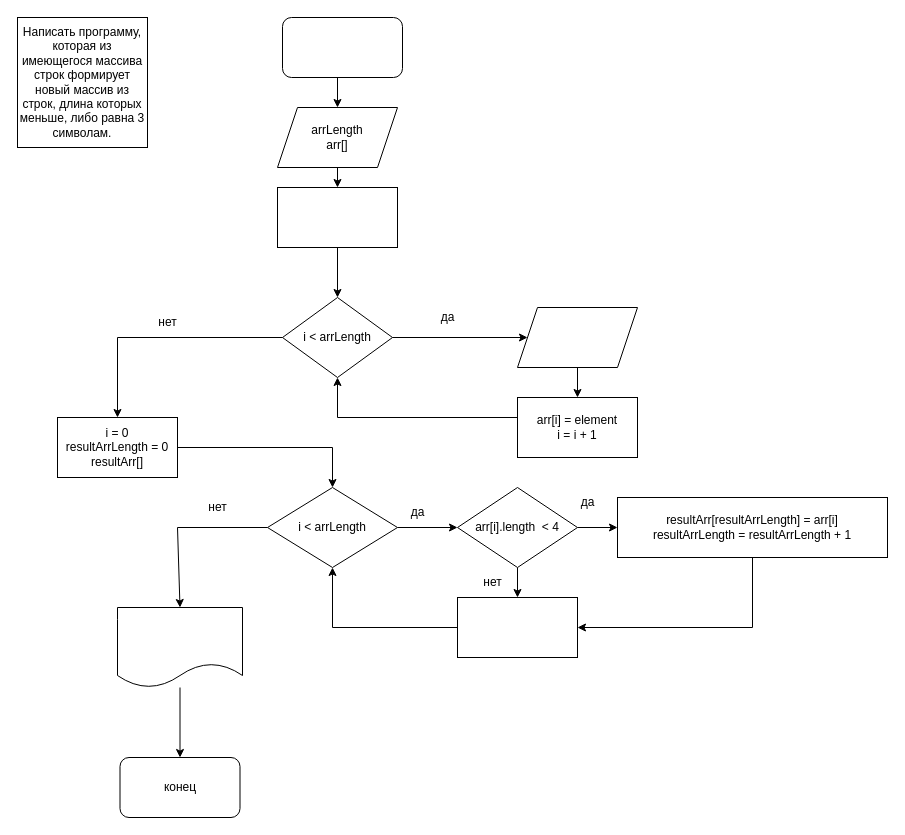
Image size: 905x835. Some labels were removed from this diagram. The shapes that lost their labels are listed below. From the top down, each one's box as (x1, y1, x2, y2) in pixels, then its label:
(282, 16, 402, 78): начало
(276, 186, 398, 248): i = 0
(516, 306, 638, 368): element
(116, 606, 242, 688): resultArr
(456, 596, 578, 658): i = i + 1
